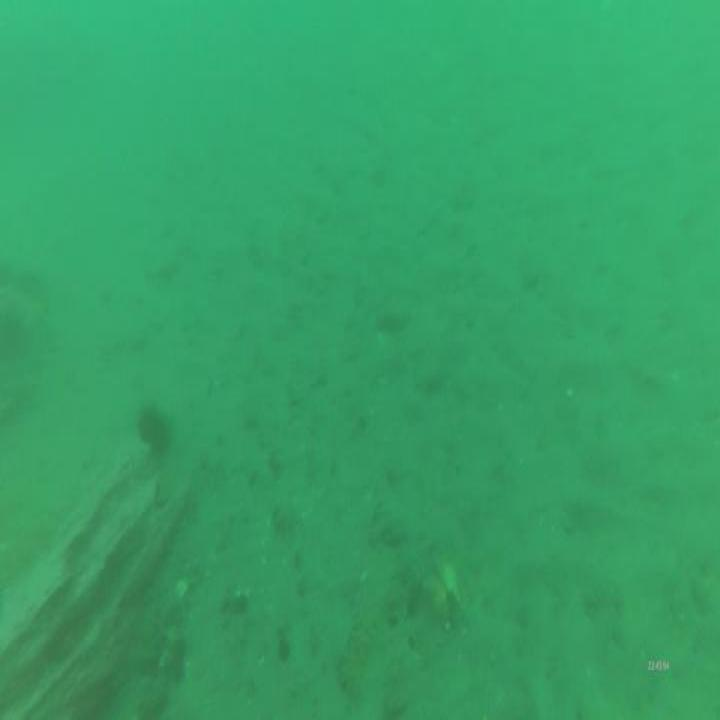echinus: (134, 398, 176, 462)
holothurian: (335, 585, 377, 711)
